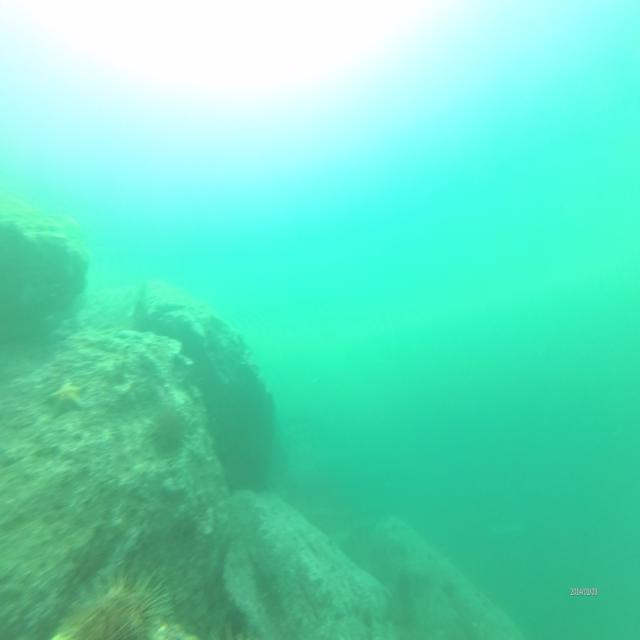echinus: (59, 574, 174, 640), (153, 406, 187, 458)
starfish: (47, 376, 85, 418)
